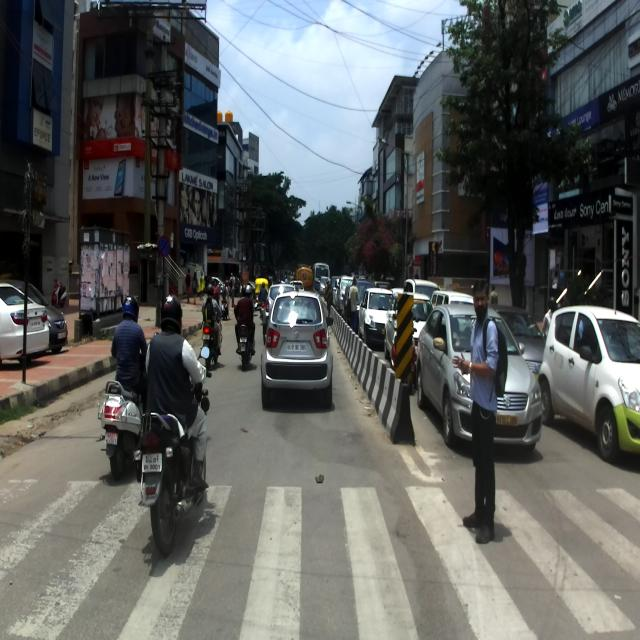car ahead at: (137, 412, 205, 550), (262, 285, 334, 409), (94, 378, 136, 476)
person ahead at: (467, 281, 505, 547)
